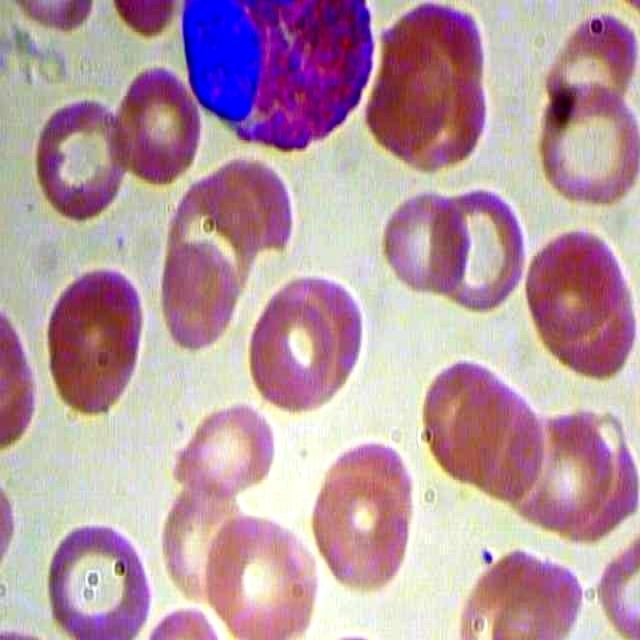RBC: (243, 271, 373, 425), (38, 263, 149, 427), (516, 210, 633, 350), (31, 97, 143, 232), (524, 82, 640, 210), (306, 455, 411, 596), (42, 521, 158, 640), (166, 387, 282, 505), (108, 60, 202, 188), (378, 182, 472, 310)
WBC: (173, 1, 387, 175)
